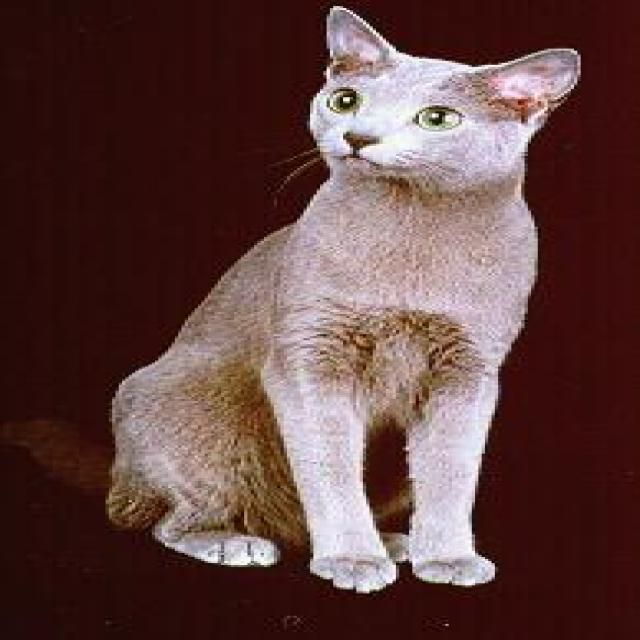Russian_Blue: (302, 0, 590, 197)
